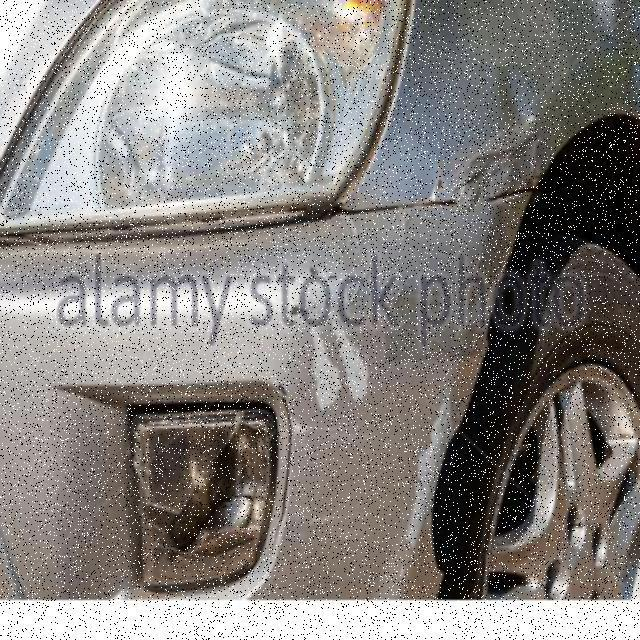fender-dent: (382, 0, 638, 204)
front-bumper-dent: (0, 206, 482, 596)
